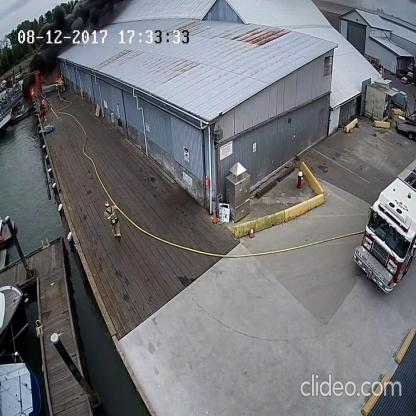fire: (53, 74, 64, 85), (29, 84, 36, 97)
